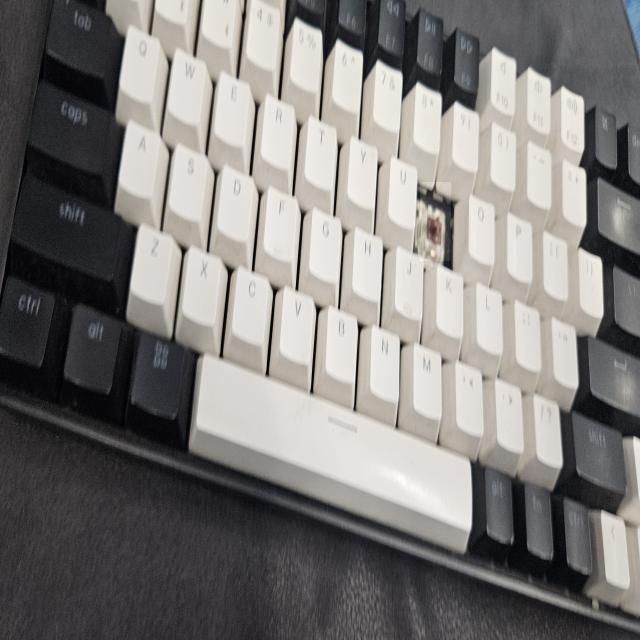C: (420, 182, 451, 261)
